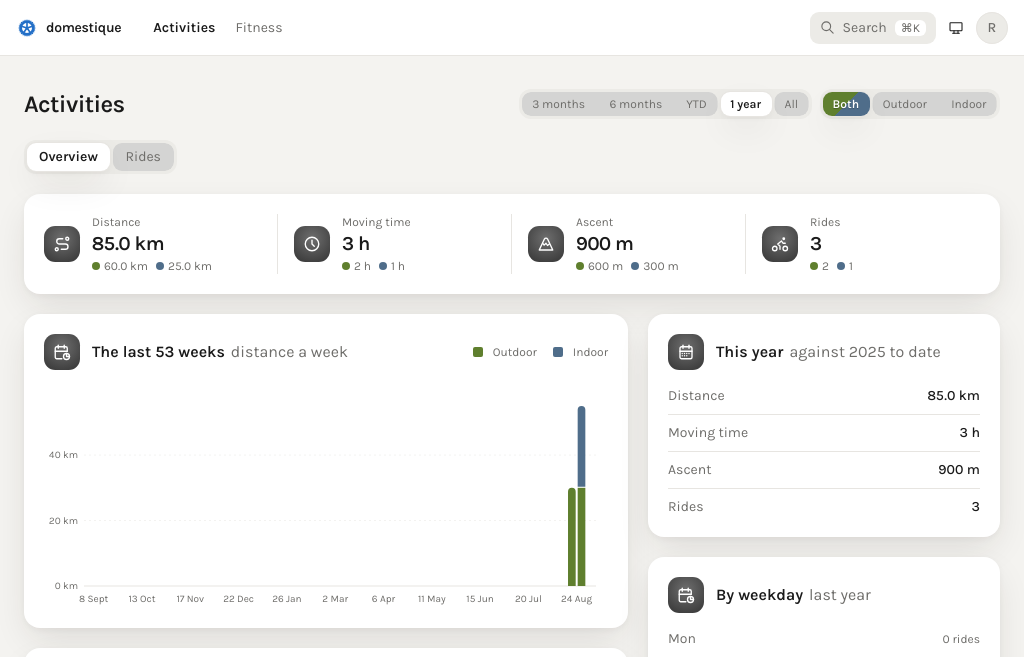
the activities page › counts only the ground the reader picks
Click the button "Indoor" at [969, 104], box [941,92,997,116]
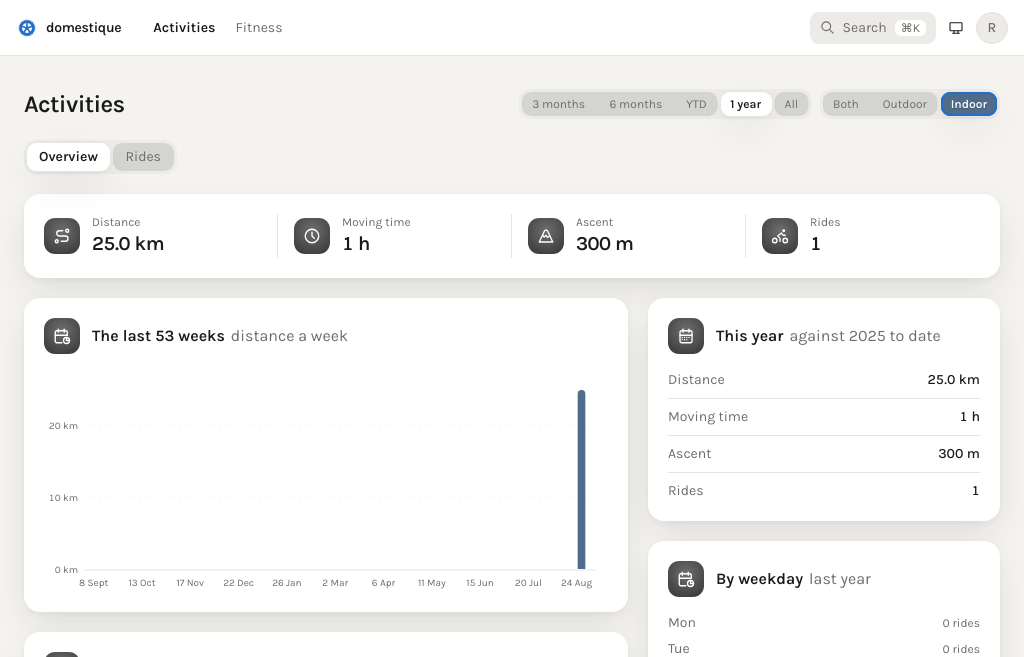
Now the element "Distance" reads "Distance 25.0 km", box [44,214,278,258]
Click the button "Outdoor" at [905, 104], box [872,92,938,116]
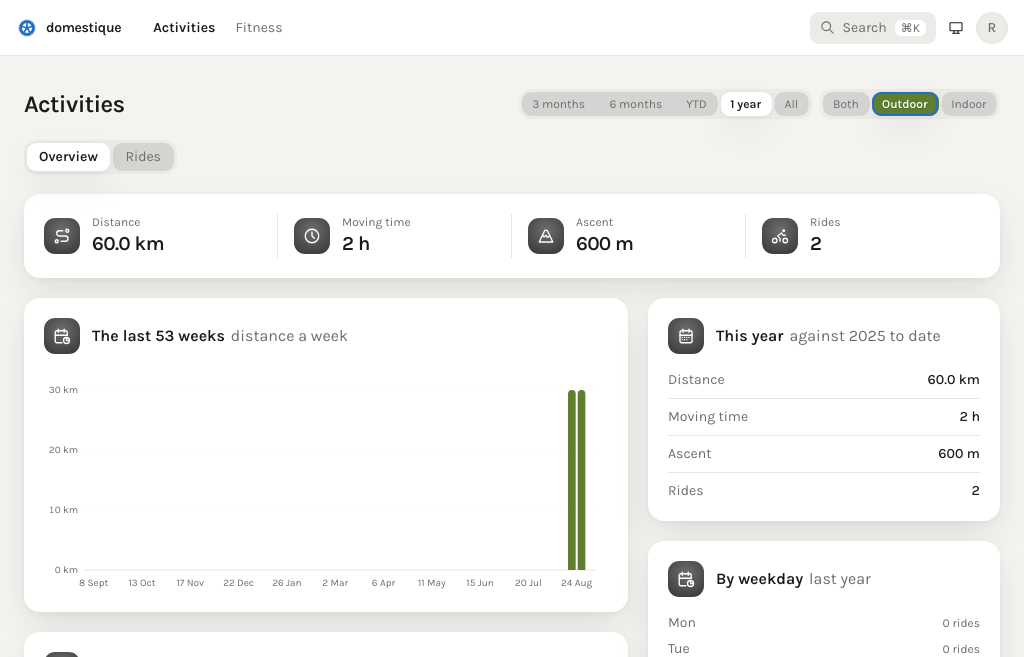
Now the element "Distance" shows "60.0 km", box [92,232,164,255]
